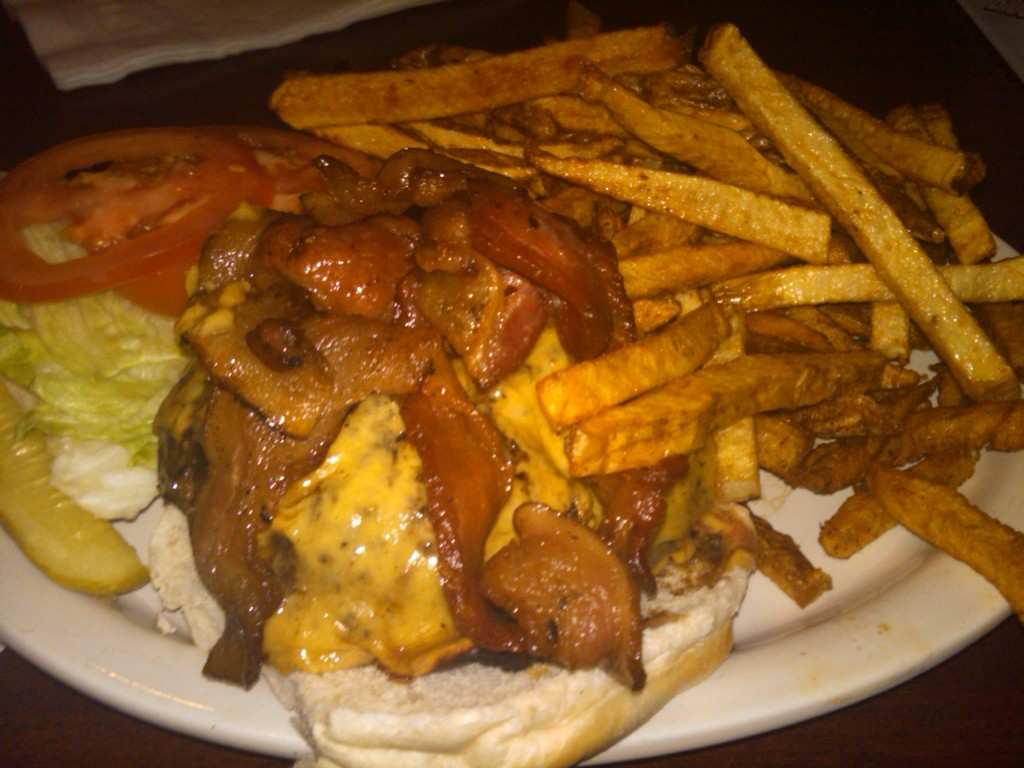French fries: (512, 37, 1024, 453)
